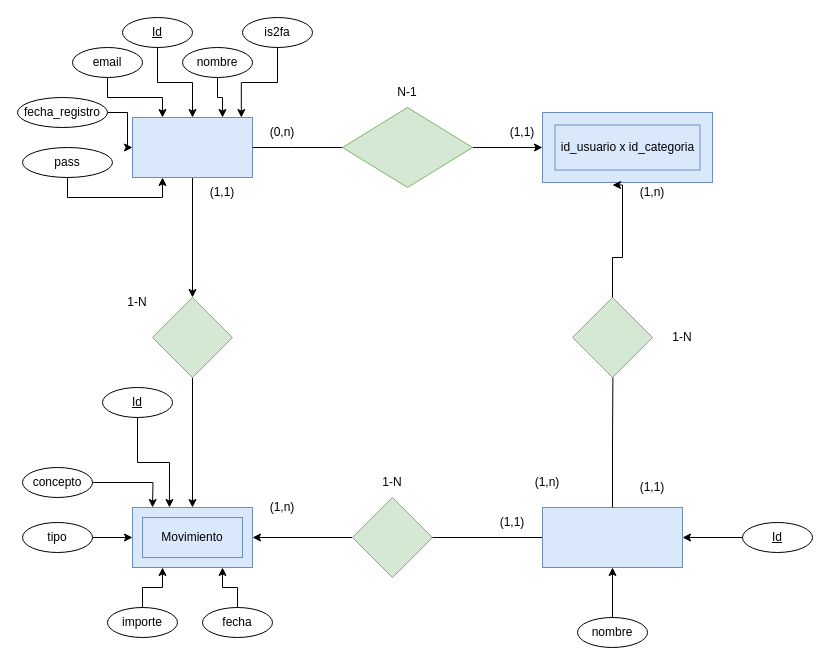
Some shapes in this 830 by 665 pixel diagram are drawn without their labels. The shapes that lost their labels are listed below. From the top down, each one's centre as x and y in pixels, then its label:
At (192,147): "Usuario".
At (407,147): "Se relaciona con".
At (192,337): "Genera".
At (612,337): "Tiene".
At (392,537): "Pertenece".
At (612,537): "categoria".
